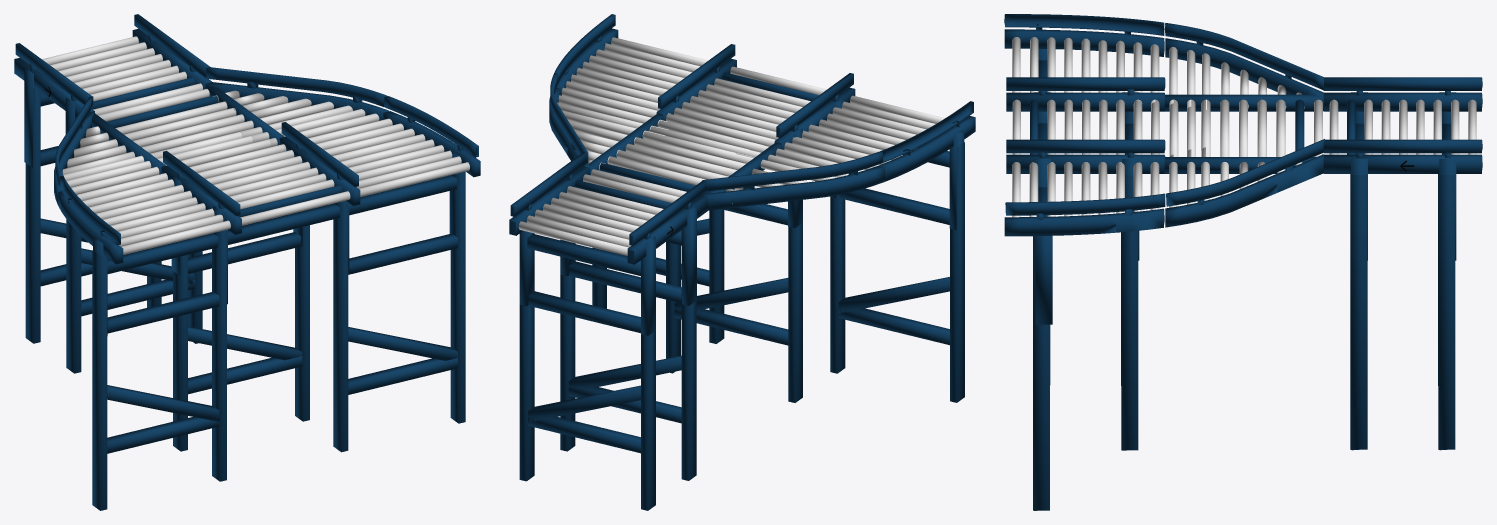
Rendered from Tall Bifurcator.glb.
The picture shows the model from 3 angles, left to right: view 1: azimuth 30°, elevation 25°; view 2: azimuth 150°, elevation 25°; view 3: azimuth 270°, elevation 25°; orthographic projection. The views are drawn at different scales.
Parts seen in each view (by area): view 1: Belt.217, Belt.291, Belt.336, Belt.349, Belt.344, Belt.292, Belt.351, Belt.348, Belt.343, Belt.360, Belt.335, Belt.338 (+52 smaller); view 2: Belt.217, Belt.292, Belt.336, Belt.291, Belt.360, Belt.352, Belt.348, Belt.351, Belt.335, Belt.359, Belt.354, Belt.353 (+45 smaller); view 3: Belt.217, Belt.291, Belt.292, Belt.352, Belt.359, Belt.343, Belt.344, Belt.286, Belt.295, Belt.218, Belt.279, Belt.280 (+2 smaller).
Boxes of the visible parts, box(x1,y1,x2,y2) form: Belt.217: box(14, 14, 360, 304); Belt.291: box(205, 67, 480, 177); Belt.336: box(92, 250, 107, 510); Belt.349: box(333, 200, 348, 452); Belt.344: box(450, 171, 465, 423); Belt.292: box(54, 96, 123, 264); Belt.351: box(25, 88, 40, 343); Belt.348: box(212, 230, 226, 481); Belt.343: box(295, 225, 309, 421); Belt.360: box(66, 118, 81, 373); Belt.335: box(173, 255, 187, 451); Belt.338: box(107, 291, 219, 333); Belt.217: box(509, 44, 855, 335); Belt.292: box(702, 101, 975, 210); Belt.336: box(950, 142, 964, 402); Belt.291: box(549, 14, 618, 174); Belt.360: box(681, 230, 696, 480); Belt.352: box(519, 305, 534, 481); Belt.348: box(830, 195, 845, 373); Belt.351: box(641, 330, 655, 510); Belt.335: box(788, 223, 802, 402); Belt.359: box(560, 257, 575, 451); Belt.354: box(528, 291, 640, 333); Belt.353: box(528, 415, 640, 453); Belt.217: box(1006, 77, 1482, 260); Belt.291: box(1004, 139, 1324, 236); Belt.292: box(1004, 14, 1323, 110); Belt.352: box(1438, 174, 1455, 450); Belt.359: box(1350, 174, 1367, 450); Belt.343: box(1121, 175, 1138, 450); Belt.344: box(1033, 236, 1049, 510); Belt.286: box(1164, 94, 1322, 111); Belt.295: box(1035, 235, 1052, 324); Belt.218: box(1164, 157, 1316, 173); Belt.279: box(1220, 99, 1229, 156); Belt.280: box(1257, 99, 1266, 156).
Size of the model in its own units: 23 by 17.13 by 24.11.
